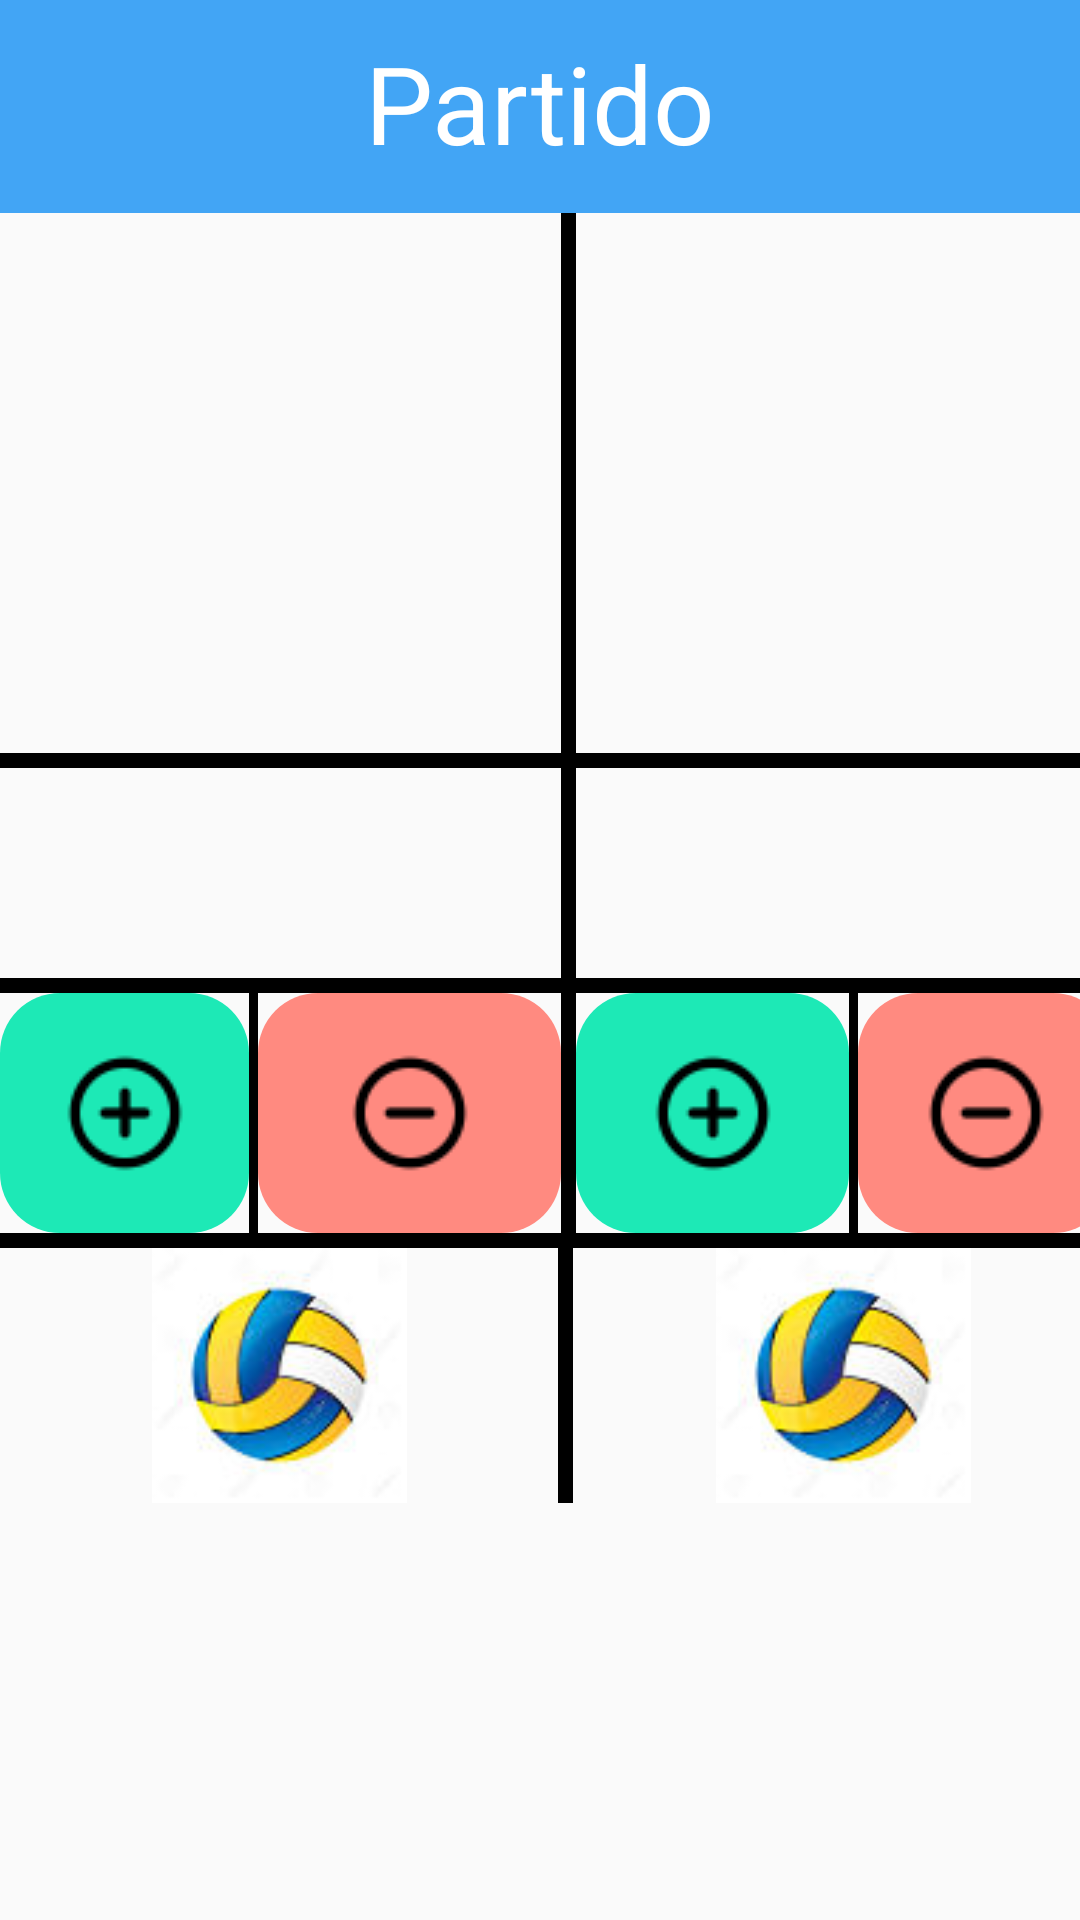

Icons on this 1080px×1920px Android screen, each with the point to tap as (x=x, y=y):
add circle insert plus: (x=124, y=1113), (x=712, y=1113)
balon voley: (x=280, y=1373), (x=844, y=1373)
